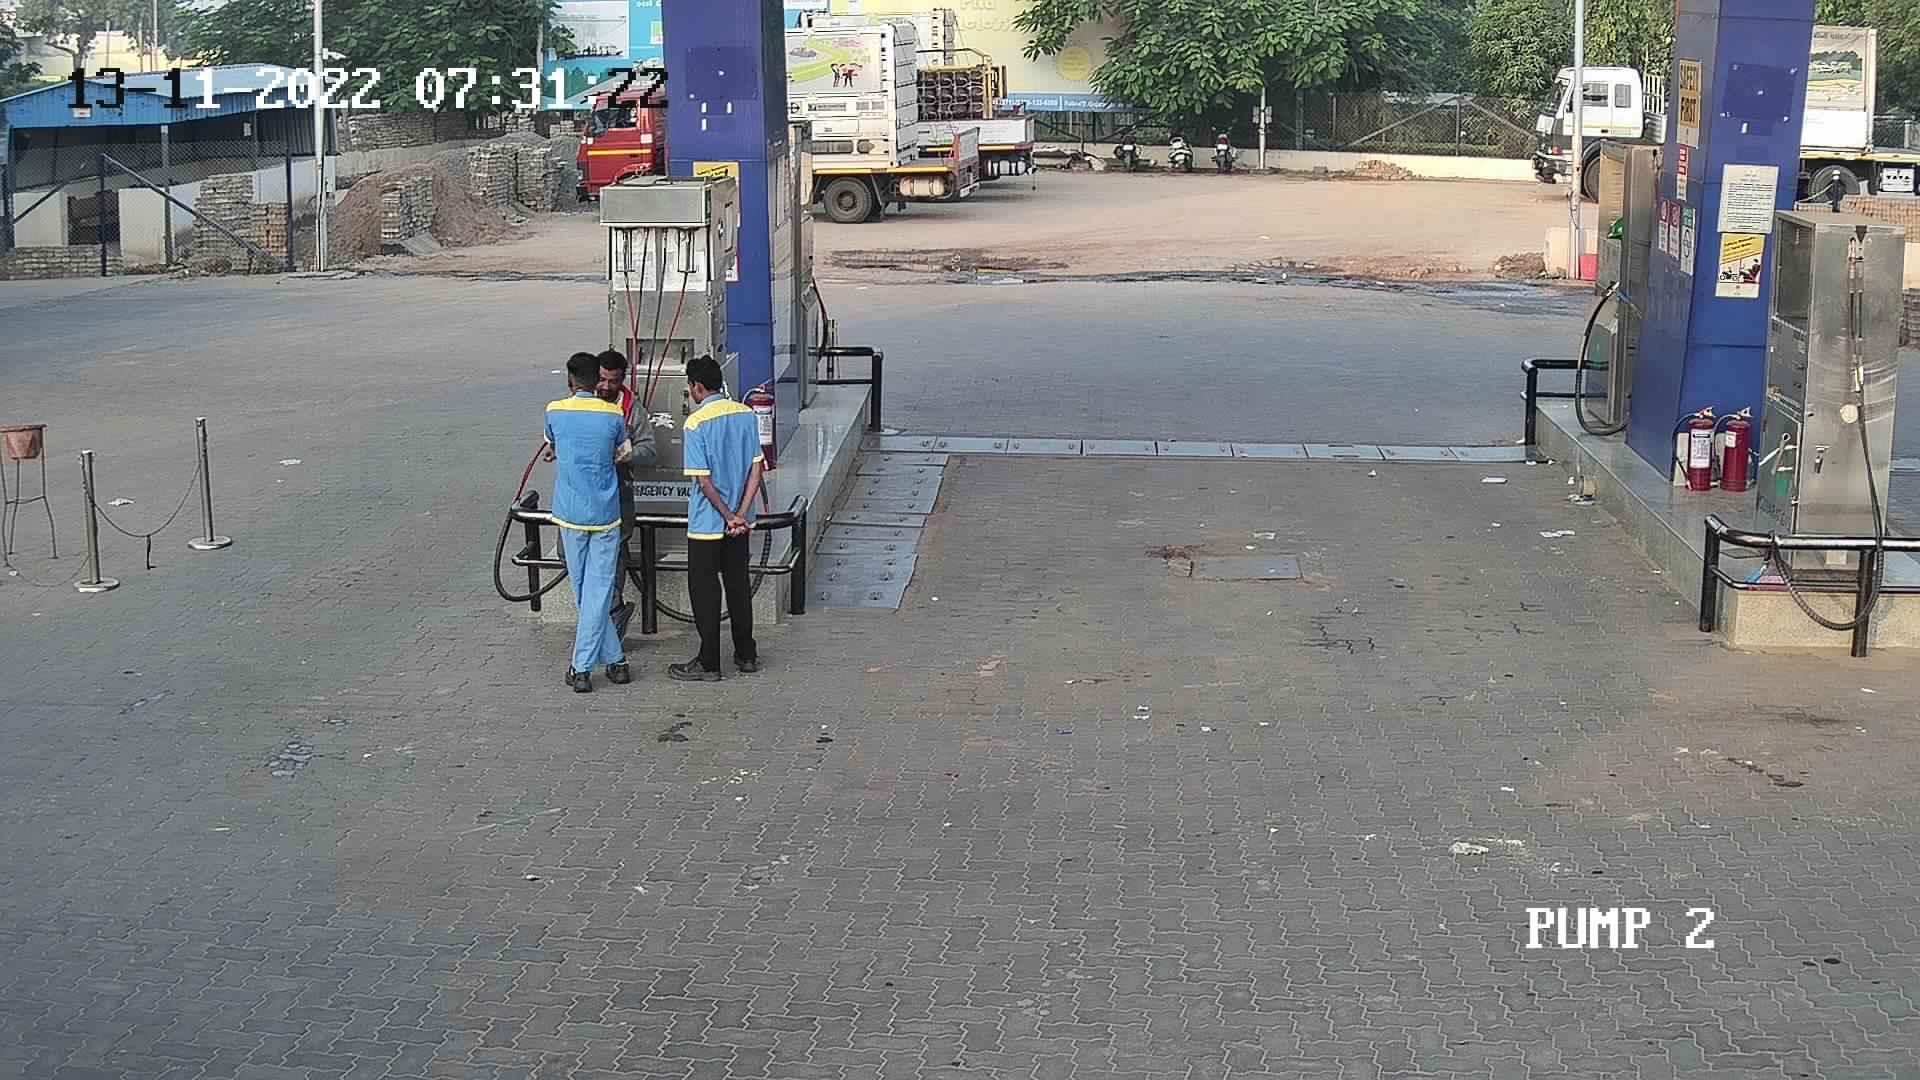Bike: (1104, 120, 1151, 173), (1203, 117, 1242, 171), (1162, 113, 1196, 171)
HMV: (769, 5, 1002, 229), (793, 3, 1048, 186), (1523, 36, 1683, 210)
Others: (529, 347, 640, 692), (658, 347, 762, 684), (589, 342, 658, 480)
